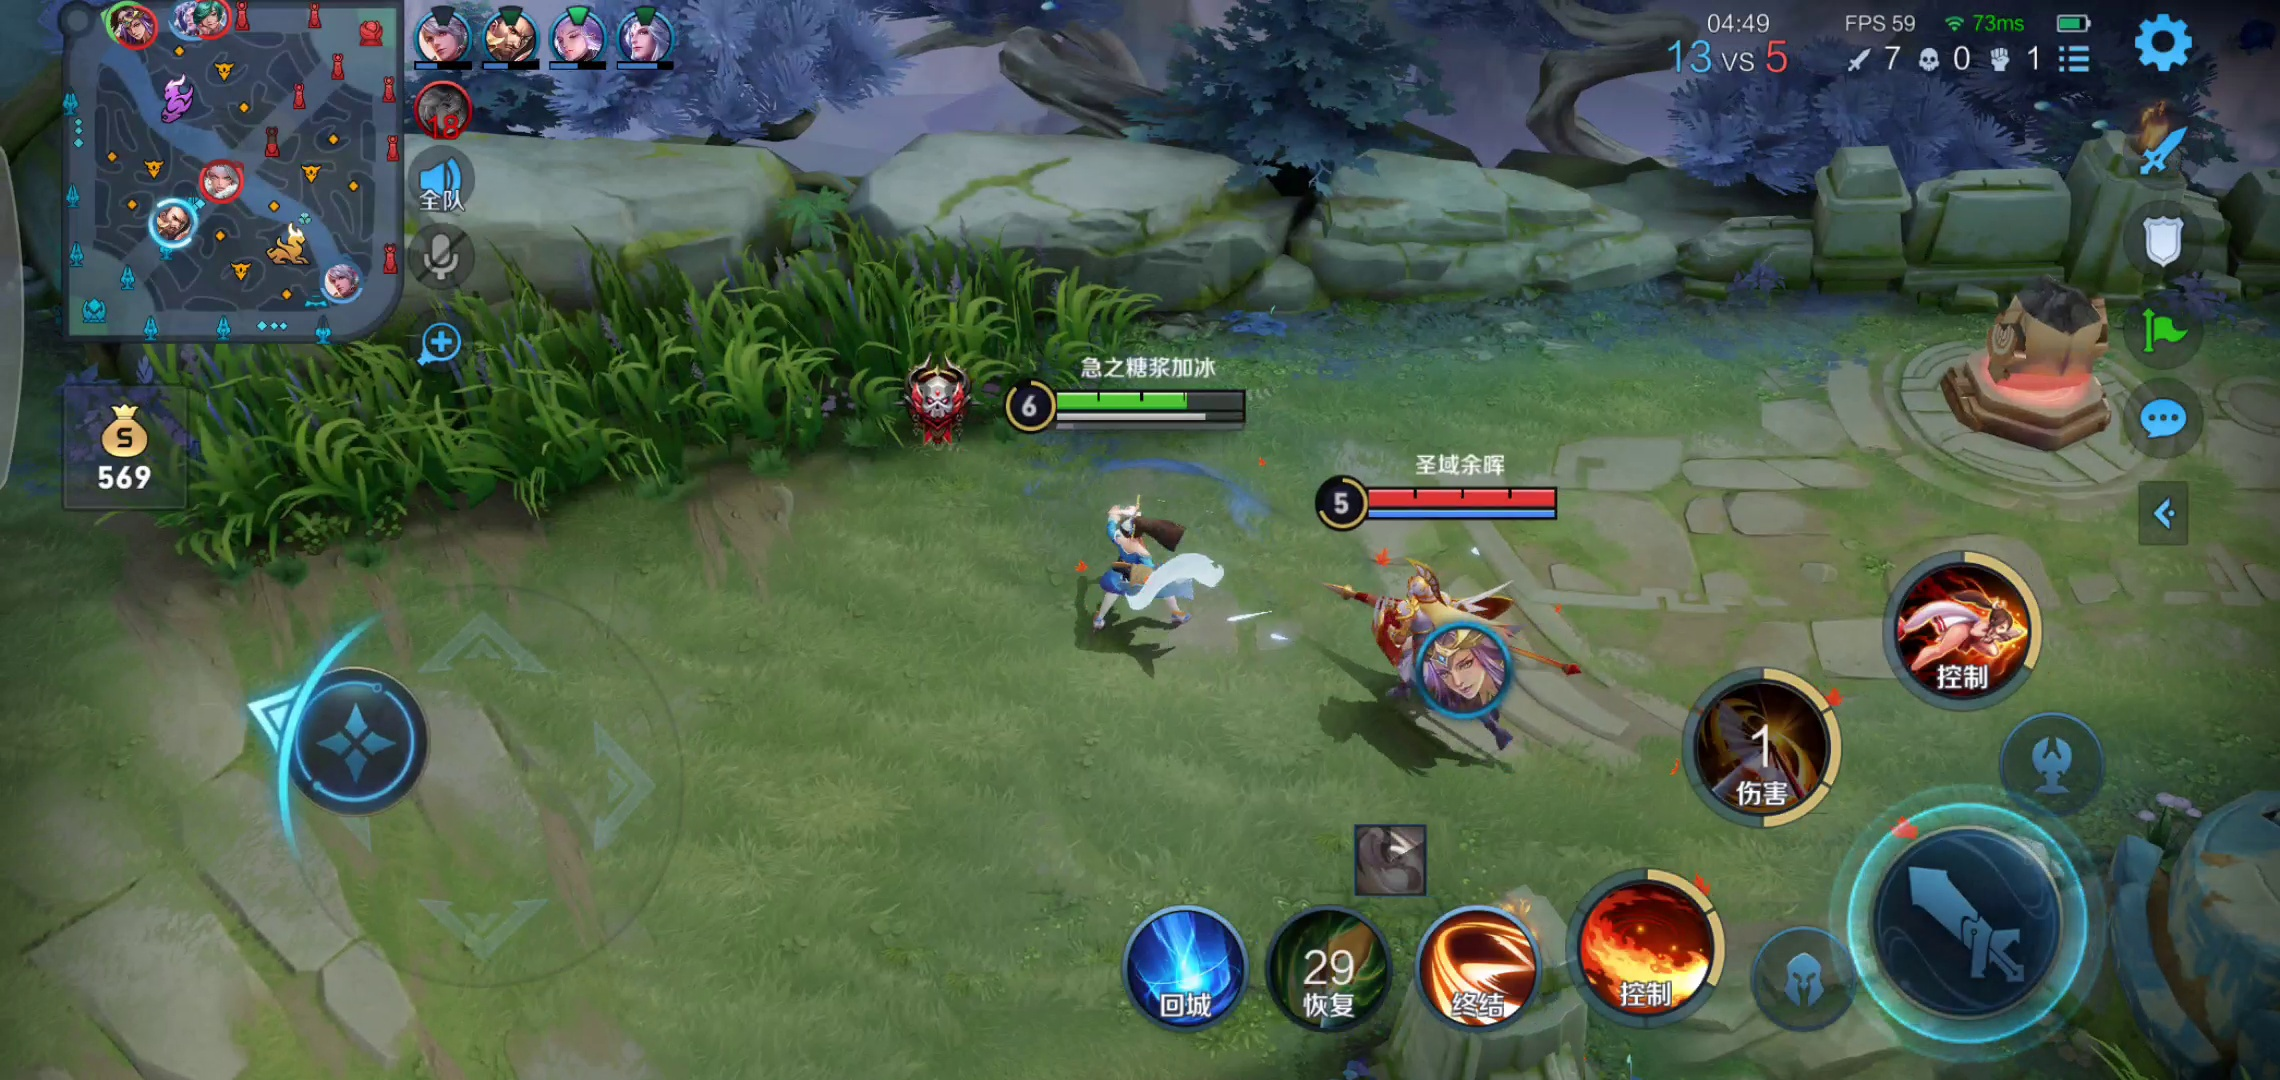grass: (157, 214, 1169, 560)
hero: (1361, 568, 1567, 753), (1070, 487, 1221, 640)
tower: (1931, 265, 2129, 456)
